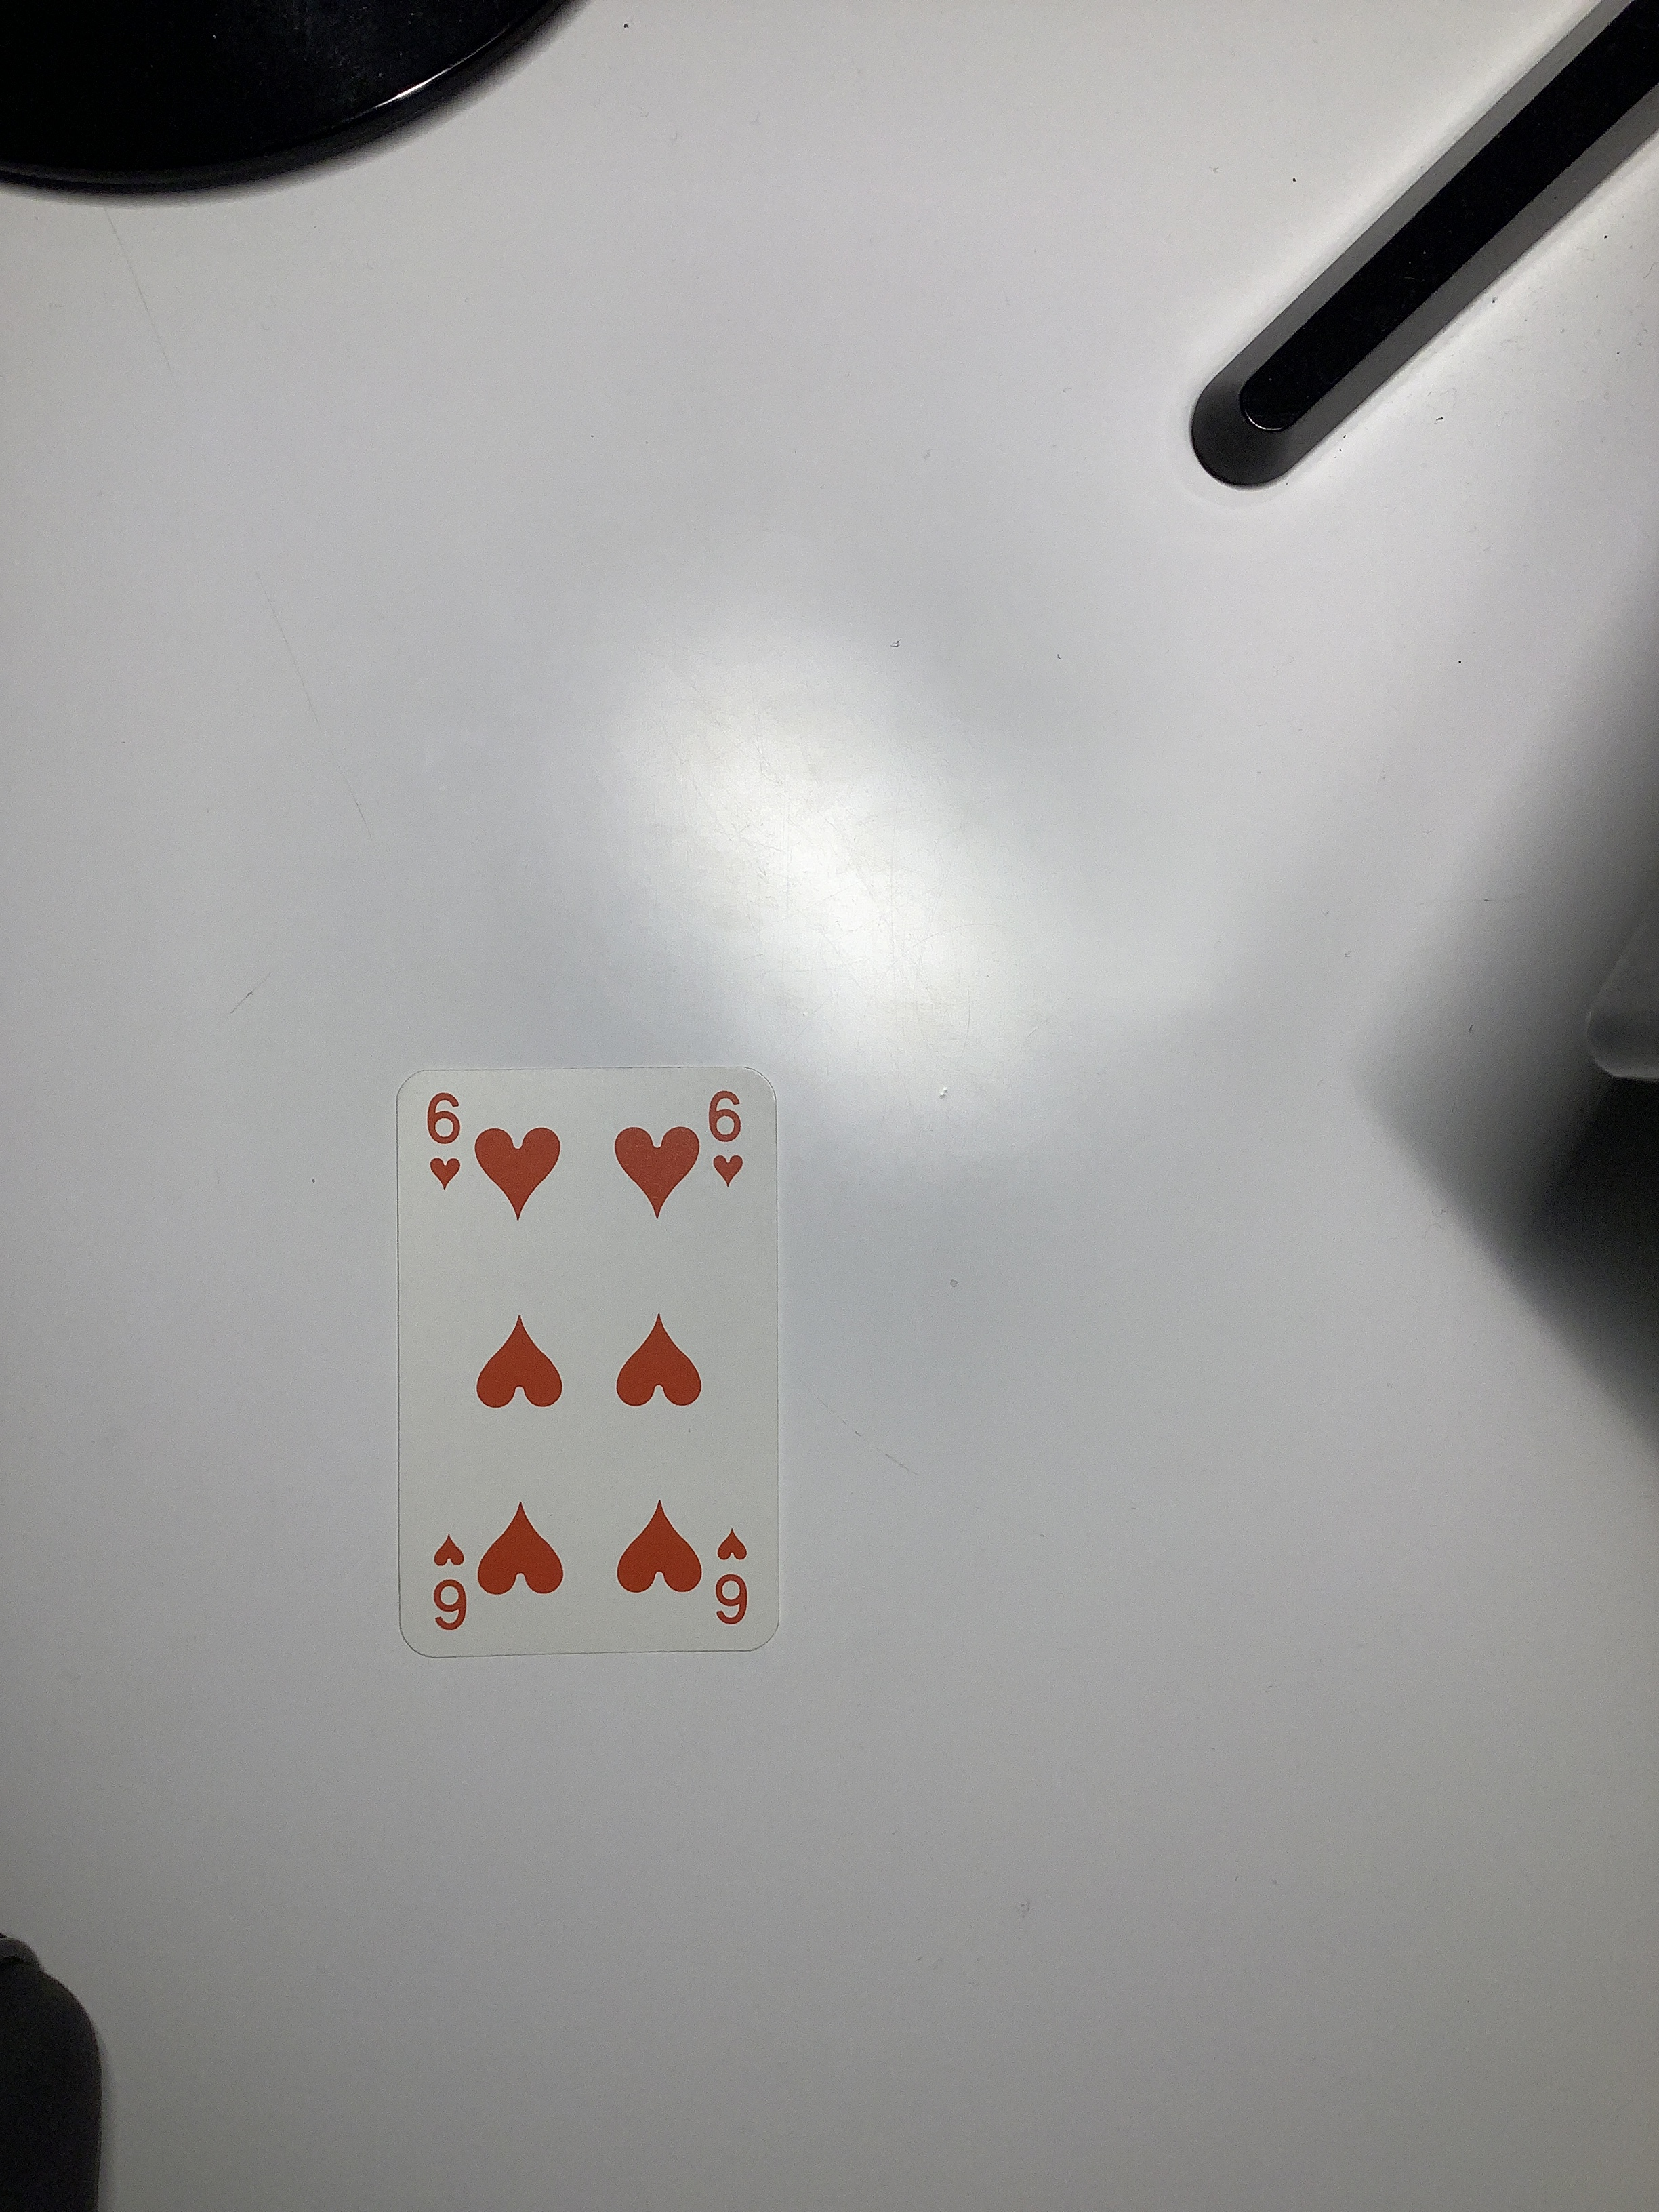♥ 6: (368, 1061, 802, 1677)
